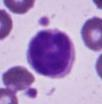L: (26, 27, 76, 80)
